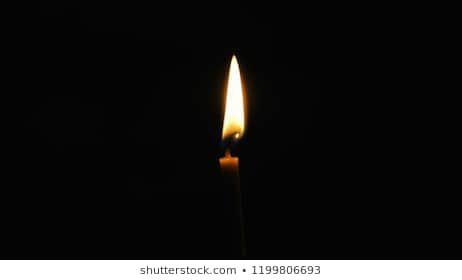fire: (221, 51, 248, 158)
